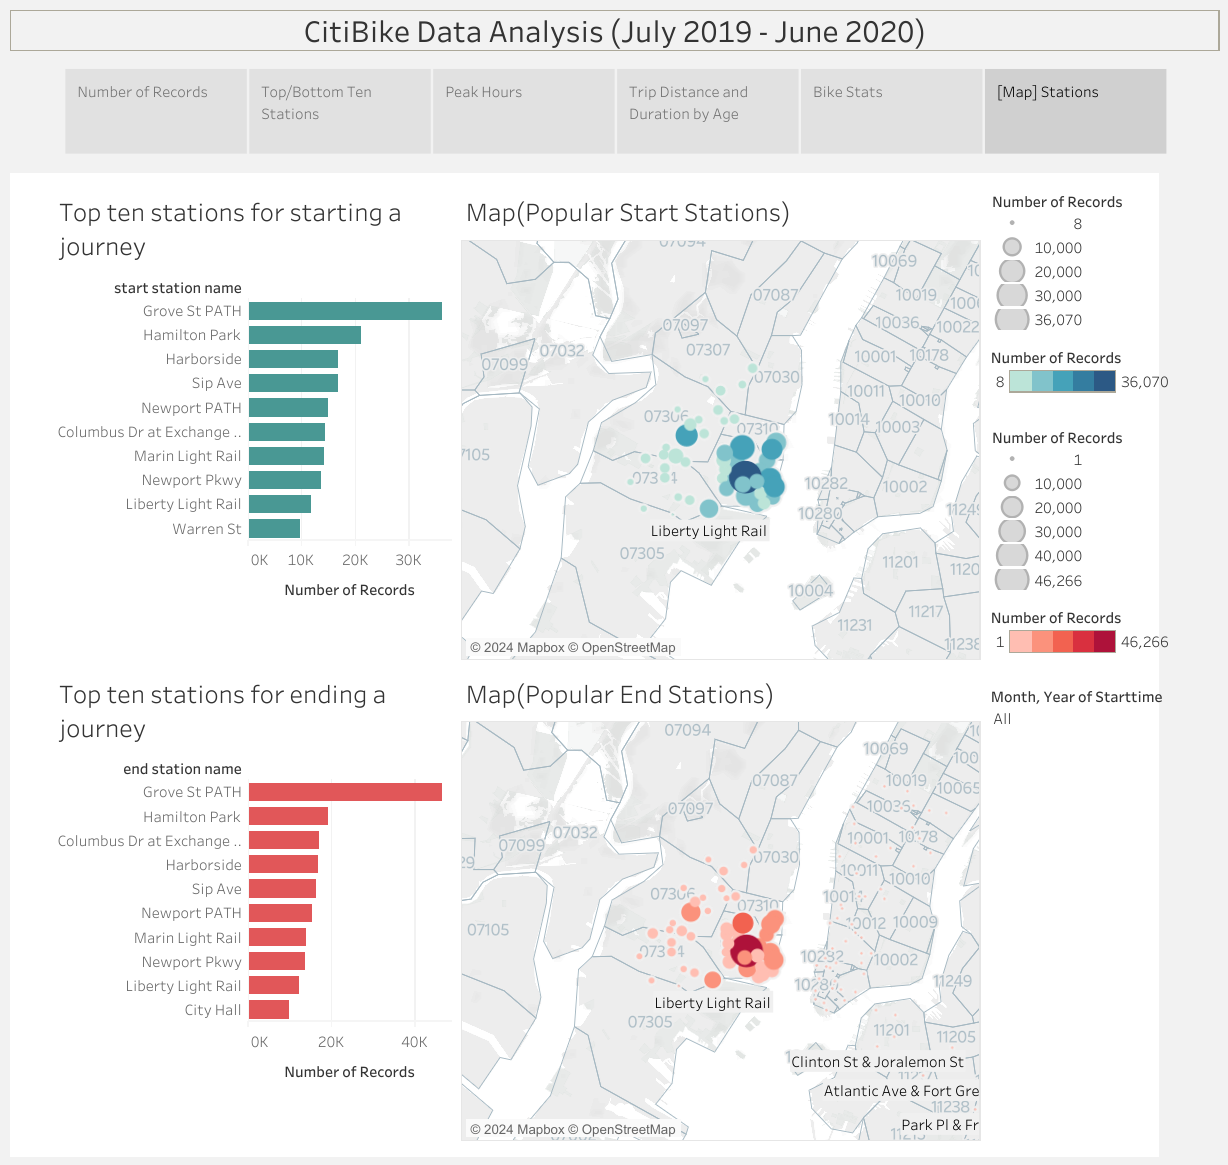

What the dashboard file says about the page in this screenshot:
{"tool":"tableau","page":{"name":"Maps","canvas":[1000,1000],"units":"permille","ordinal":1},"visuals":[{"type":"worksheet","title":"Top 10 (start) Stations","mark":"Automatic","rows":["start station name"],"cols":["Calculation_2171298008309485579"],"box":[12.6,9.3,397.9,478.4]},{"type":"worksheet","title":"Map(Popular Start Stations)","mark":"Automatic","rows":["start station latitude"],"cols":["start station longitude"],"box":[411.6,9.3,397.9,478.4]},{"type":"legend","title":"Map(Popular Start Stations)","param":"[federated.06t6mmk1ta8xqx1g6an2d0cdsx3z].[sum:Calculation_2171298008309485579:qk","box":[817.6,58.3,164.7,88.7]},{"type":"legend","title":"Map(Popular Start Stations)","param":"[federated.06t6mmk1ta8xqx1g6an2d0cdsx3z].[sum:Calculation_2171298008309485579:qk","box":[819,123.7,164.2,137.7]},{"type":"filter","title":"Map(Popular End Stations)","param":"[federated.06t6mmk1ta8xqx1g6an2d0cdsx3z].[my:starttime:ok]","box":[814.7,464.4,176.8,60.7]},{"type":"worksheet","title":"Top 10 (end) Stations","mark":"Automatic","rows":["end station name"],"cols":["Calculation_2171298008309485579"],"box":[11.6,488.9,397.9,478.4]},{"type":"worksheet","title":"Map(Popular End Stations)","mark":"Automatic","rows":["end station latitude"],"cols":["end station longitude"],"box":[410.5,488.9,400,480.8]},{"type":"legend","title":"Map(Popular End Stations)","param":"[federated.06t6mmk1ta8xqx1g6an2d0cdsx3z].[sum:Calculation_2171298008309485579:qk","box":[823.2,537.9,147.4,88.7]},{"type":"legend","title":"Map(Popular End Stations)","param":"[federated.06t6mmk1ta8xqx1g6an2d0cdsx3z].[sum:Calculation_2171298008309485579:qk","box":[822.1,604.4,147.4,161]}]}

Visuals, with their boxes on the dashboard's canvas, which has no fixed pixel size, in thousandths of its width and height (x1, y1, x2, y2). These are canvas units, not pixel positions in the 1228x1165 screenshot, which may show the page scaled, cropped or inside an application window:
"Top 10 (start) Stations" worksheet: [left=13, top=9, right=410, bottom=488]
"Map(Popular Start Stations)" worksheet: [left=412, top=9, right=810, bottom=488]
"Map(Popular Start Stations)" legend: [left=818, top=58, right=982, bottom=147]
"Map(Popular Start Stations)" legend: [left=819, top=124, right=983, bottom=261]
"Map(Popular End Stations)" filter: [left=815, top=464, right=992, bottom=525]
"Top 10 (end) Stations" worksheet: [left=12, top=489, right=410, bottom=967]
"Map(Popular End Stations)" worksheet: [left=410, top=489, right=810, bottom=970]
"Map(Popular End Stations)" legend: [left=823, top=538, right=971, bottom=627]
"Map(Popular End Stations)" legend: [left=822, top=604, right=970, bottom=765]
